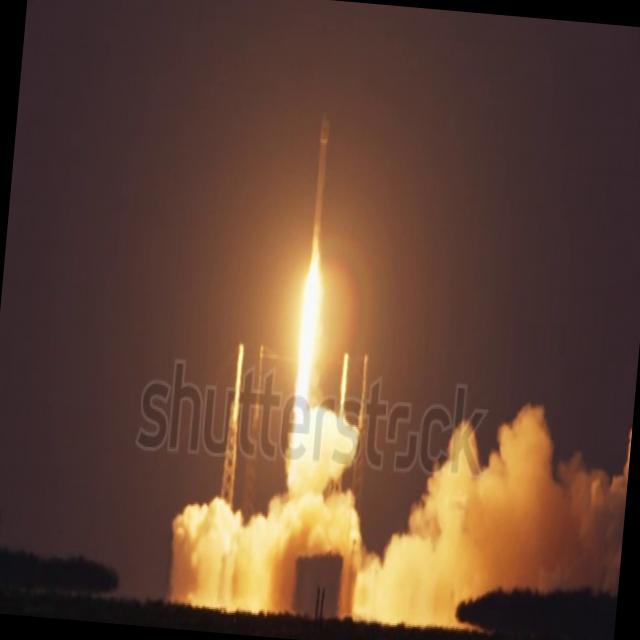rocket: (294, 110, 343, 361)
